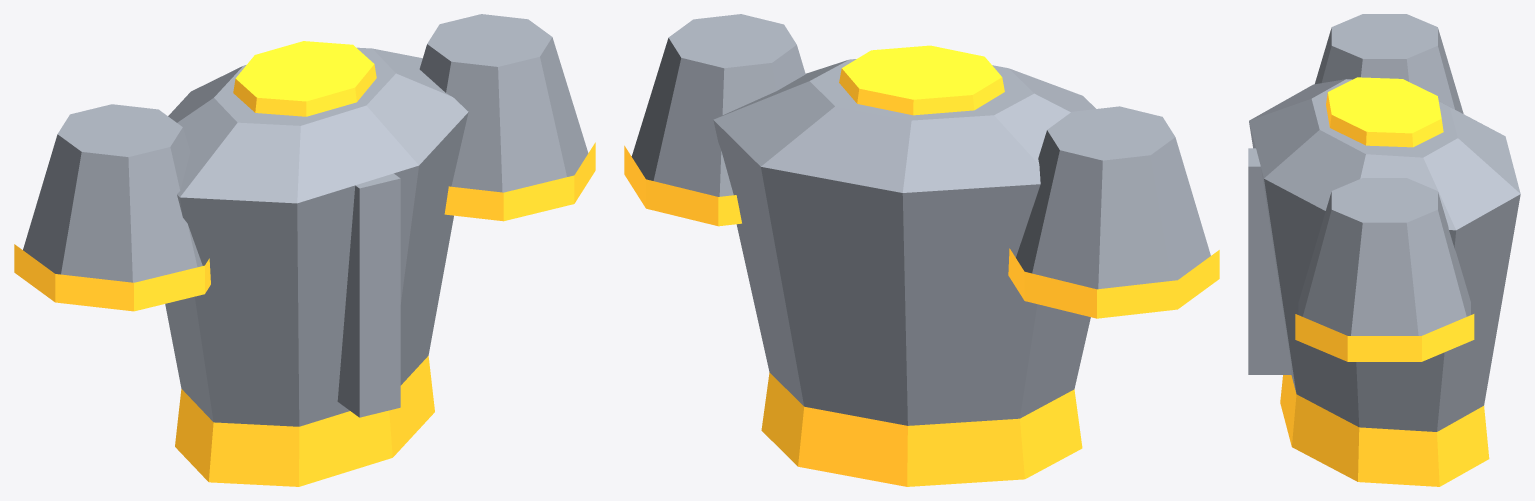
File: plate_armour.glb
3 views of the same model, side by side, from view 1: azimuth 30°, elevation 25°; view 2: azimuth 150°, elevation 25°; view 3: azimuth 270°, elevation 25° (orthographic). The views are drawn at different scales.
Parts seen in each view (by area): view 1: plate_armour; view 2: plate_armour; view 3: plate_armour.
Part boxes in pixels (left/top/right/bottom): plate_armour: left=14, top=14, right=595, bottom=486; plate_armour: left=624, top=14, right=1219, bottom=486; plate_armour: left=1248, top=14, right=1520, bottom=486.
Size of the model in its own units: 0.9868 by 0.625 by 0.4741.
